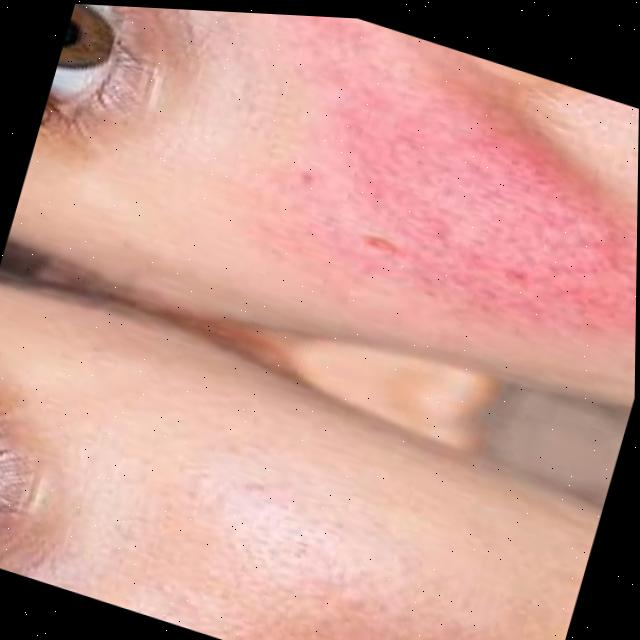Rosacea: (227, 15, 640, 366)
